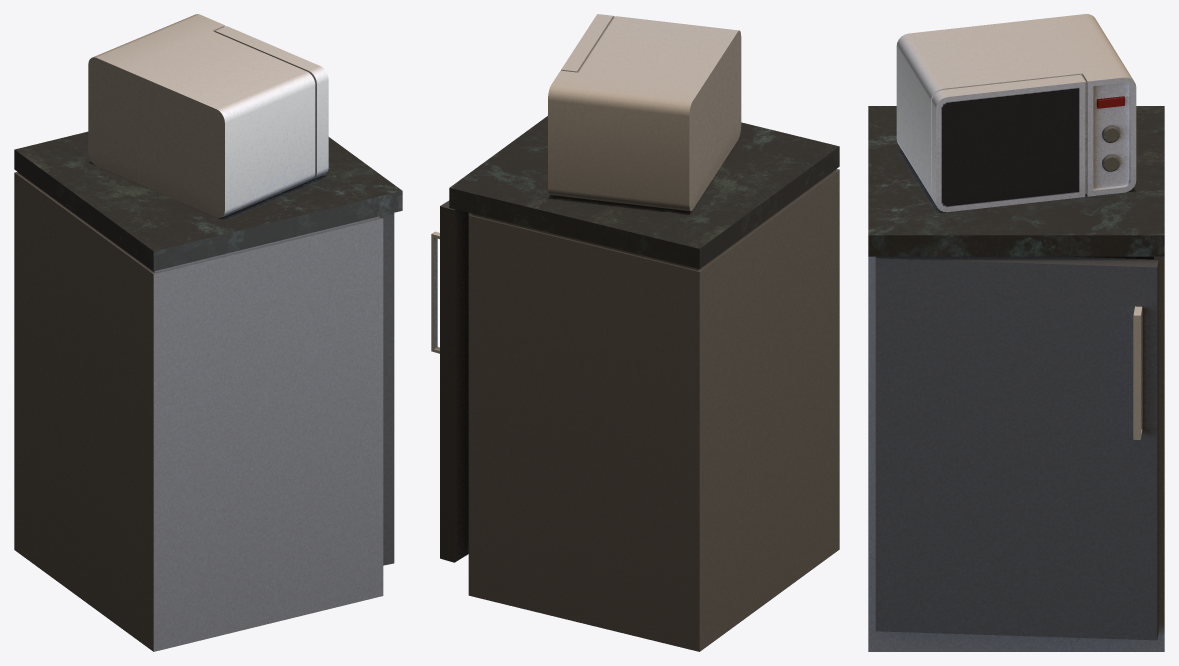
File: microOnde.obj
The picture shows the model from 3 angles, left to right: view 1: azimuth 30°, elevation 25°; view 2: azimuth 150°, elevation 25°; view 3: azimuth 270°, elevation 25°; orthographic projection. The views are drawn at different scales.
Parts seen in each view (by area): view 1: micro_onde_Cube.008; view 2: micro_onde_Cube.008; view 3: micro_onde_Cube.008.
Part boxes in pixels (box(x1,y1,x2,y2)): micro_onde_Cube.008: box(14, 14, 402, 651); micro_onde_Cube.008: box(431, 14, 839, 651); micro_onde_Cube.008: box(868, 14, 1164, 651).
Size of the model in its own units: 1.45 by 2.54 by 1.26.
1 material, 1 textured.
